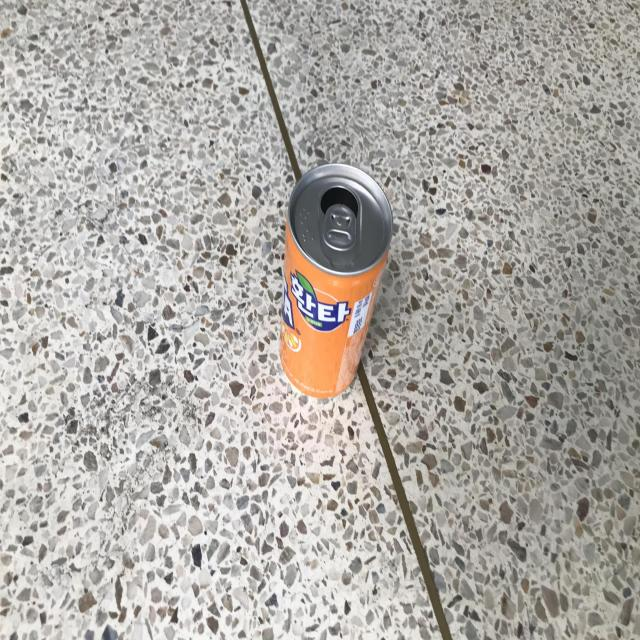can: (280, 163, 393, 398)
